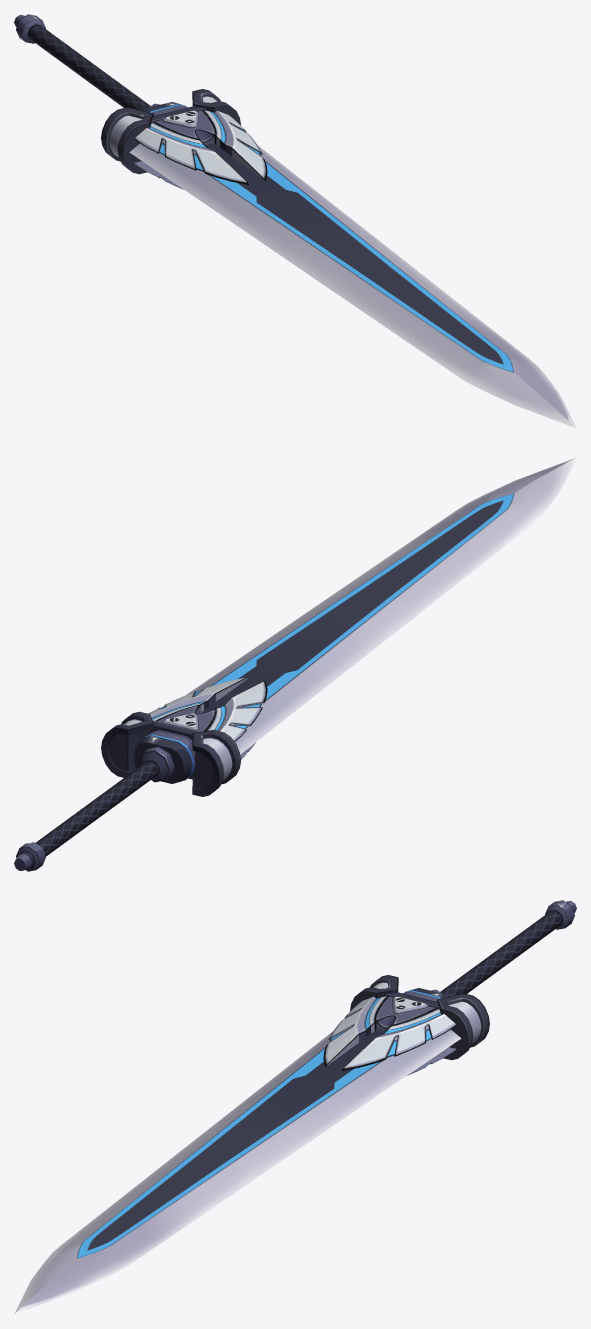
File: Weapon_Claymore_H1_49_2.fbx
The picture shows the model from 3 angles, top to bottom: view 1: azimuth 30°, elevation 25°; view 2: azimuth 150°, elevation 25°; view 3: azimuth 330°, elevation 25°; orthographic projection.
Parts seen in each view (by area): view 1: Sword; view 2: Sword; view 3: Sword.
Part boxes in pixels (x1,y1,x2,y2): Sword: (14,14,576,428); Sword: (14,457,576,871); Sword: (14,900,576,1314).
Bounding box in the file's own units: 0.2289 × 0.09 × 1.87.
Materials: 1 (1 with a texture image).
